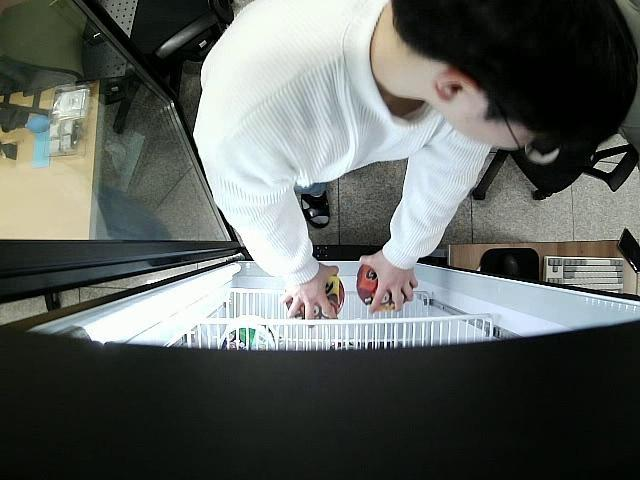05_nuguri_L: (286, 274, 346, 320), (356, 263, 409, 310)
